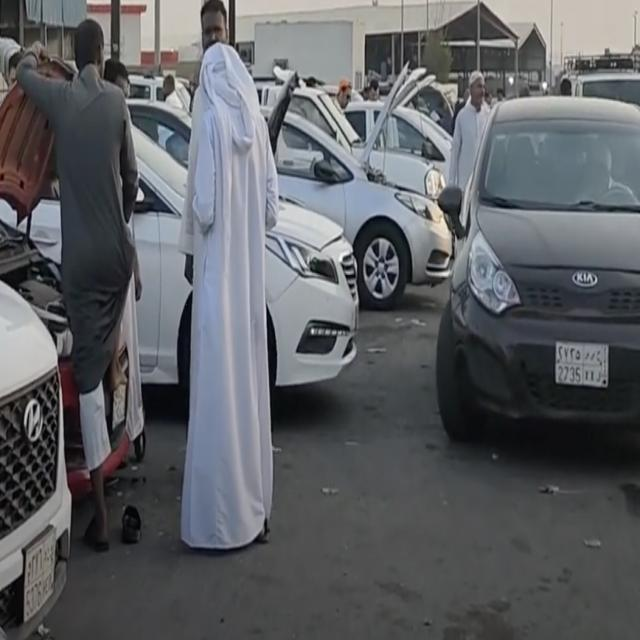license_plate: (22, 525, 58, 637), (553, 340, 613, 393)
